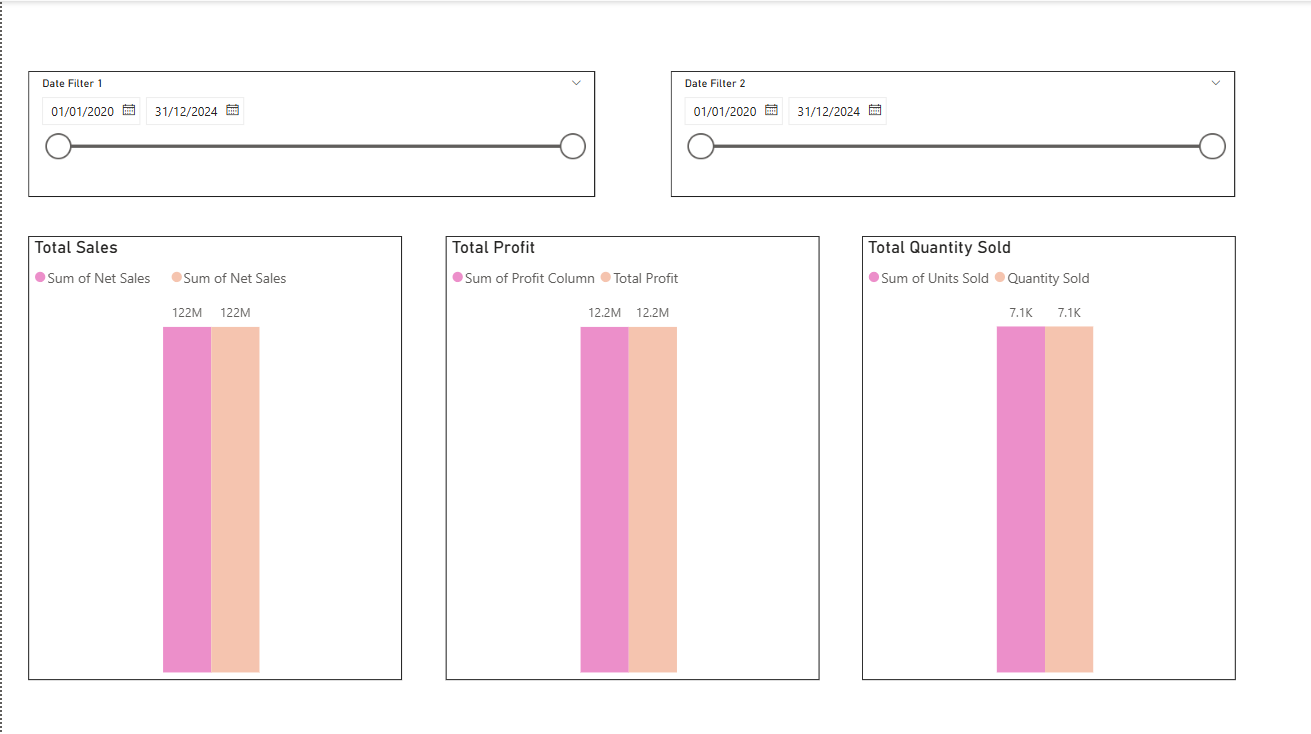

Layout of this report page (visuals, bound fields, positions):
{"tool":"powerbi","page":{"name":"Time-Period Analysis","canvas":[1280,720],"ordinal":2},"visuals":[{"type":"slicer","fields":{"Values":["Date Table 1.Date"]},"box":[26.1,68.6,554.4,123.5],"z":0},{"type":"slicer","fields":{"Values":["Date Table 2.Date"]},"box":[654.5,68.6,551.6,123.5],"z":1000},{"type":"clusteredColumnChart","title":"Total Sales","fields":{"Y":["Sum(Fact Table.Net Sales    )","Date Table 1.Sum of Net Sales"]},"box":[25.7,229.9,365.6,434.1],"z":2000},{"type":"clusteredColumnChart","title":"Total Quantity Sold","fields":{"Y":["Sum(Fact Table.Units Sold)","Measures Table.Quantity Sold"]},"box":[841.3,229.9,365.6,434.1],"z":3000},{"type":"clusteredColumnChart","title":"Total Profit","fields":{"Y":["Sum(Fact Table.Profit Column)","Measures Table.Total Profit"]},"box":[434.1,229.9,365.6,434.1],"z":4000}]}

Visuals, with their boxes in screenshot pixels (x1, y1, x2, y2), scaled from the page's 1280x720 canvas onto the 1311x734 screenshot:
slicer - Date Table 1.Date: bbox=(27, 70, 595, 196)
slicer - Date Table 2.Date: bbox=(670, 70, 1235, 196)
"Total Sales" clusteredColumnChart: bbox=(26, 234, 401, 677)
"Total Quantity Sold" clusteredColumnChart: bbox=(862, 234, 1236, 677)
"Total Profit" clusteredColumnChart: bbox=(445, 234, 819, 677)
